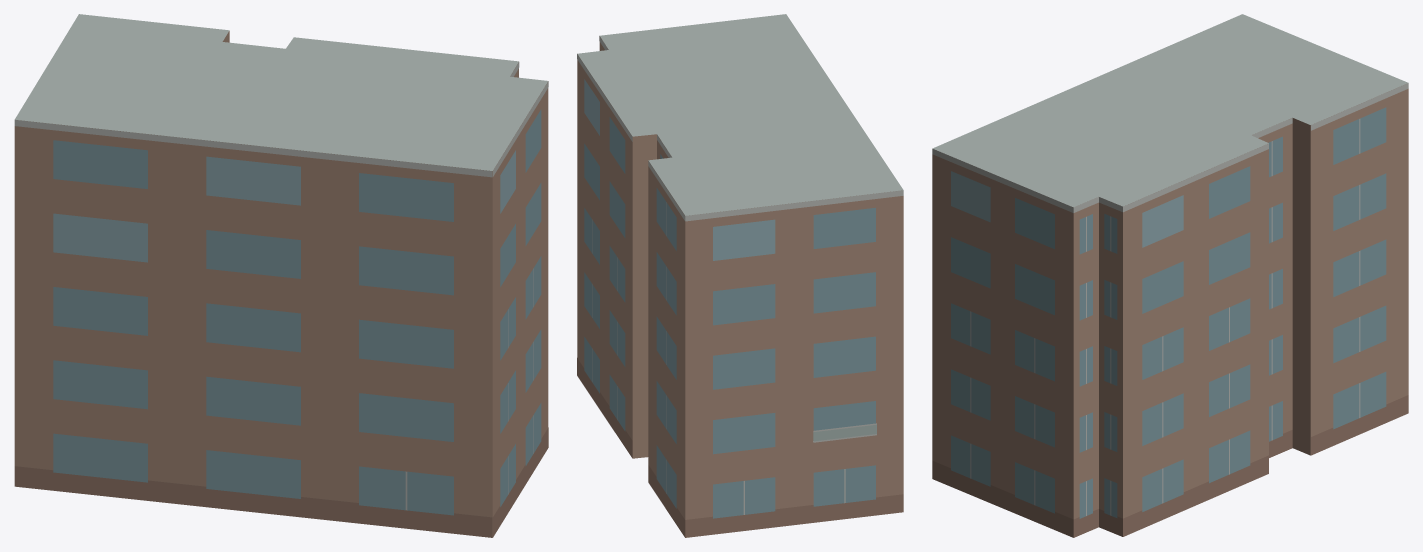
File: survey-upis-32888374.glb
3 renders of one model, left to right at view 1: azimuth 30°, elevation 25°; view 2: azimuth 150°, elevation 25°; view 3: azimuth 270°, elevation 25°, orthographic. The views are drawn at different scales.
Parts seen in each view (by area): view 1: survey-upis-32888374.tmp; view 2: survey-upis-32888374.tmp; view 3: survey-upis-32888374.tmp.
Boxes of the visible parts, x1,y1,x2,y2 form: survey-upis-32888374.tmp: [14, 14, 548, 537]; survey-upis-32888374.tmp: [577, 14, 903, 537]; survey-upis-32888374.tmp: [932, 14, 1408, 537].
Size of the model in its own units: 17.71 by 14.1 by 18.43.
